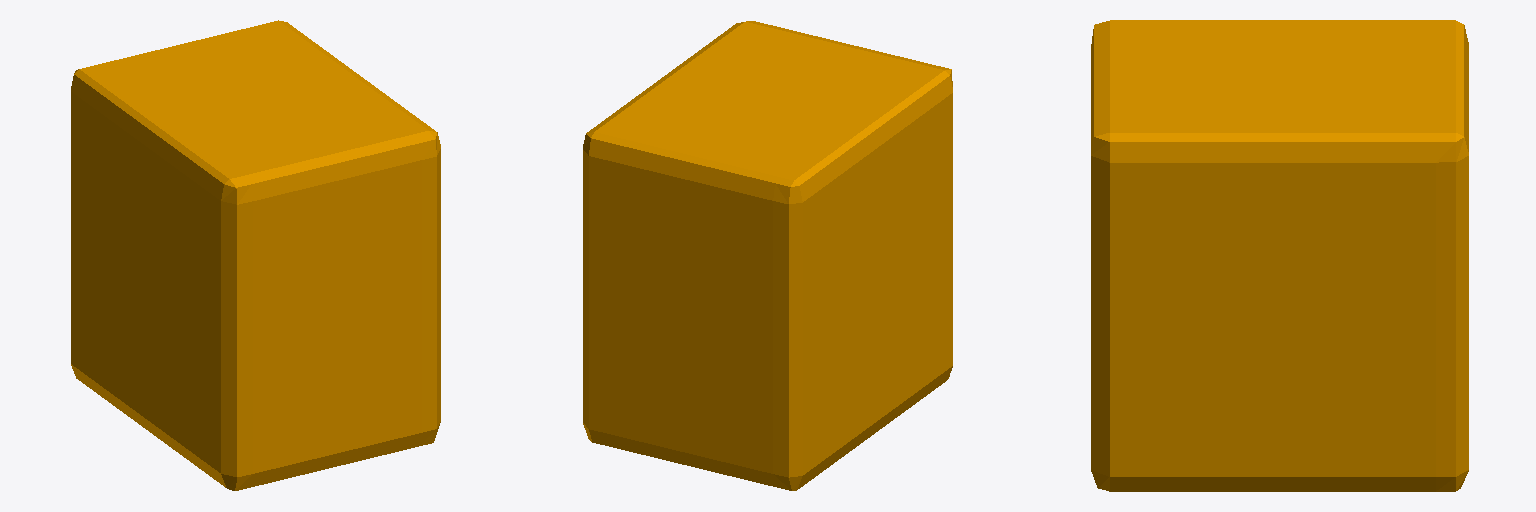
URDF robot description (cylinder_box_5):
<?xml version="1.0" encoding="utf-8"?>  <robot name="cylinder_box_5">   <link name="cylinder_box_5">     <visual>       <geometry>         <mesh filename="../meshes/box/box_5.stl" scale="1 1 1"/>       </geometry>     </visual>     <collision>       <geometry>         <mesh filename="../meshes/box/box_5.stl" scale="1 1 1"/>       </geometry>     </collision>     <inertial>        <origin         xyz="0 0 0"         rpy="0 0 0" />       <mass value="0.6386247942099151"/>       <origin rpy="0 0 0" xyz="0 0 0"/>       <inertia ixx="0.0009451071638439682" ixy="-1.0305574202331343e-09" ixz="-4.674944457905062e-09" iyy="0.0007639267408545388" iyz="-3.998417595207285e-08" izz="0.0007237252987229299"/>     </inertial>   </link>  </robot>

--- What the picture shows (computed from the rendered views, not written in the file) ---
The picture shows the robot from 3 angles, left to right: view 1: azimuth 30°, elevation 25°; view 2: azimuth 150°, elevation 25°; view 3: azimuth 270°, elevation 25°; orthographic projection.
Robot: cylinder_box_5 — 1 links, 0 joints (none); root link cylinder_box_5; default pose: all joints at 0.
Links seen in each view (by area): view 1: cylinder_box_5; view 2: cylinder_box_5; view 3: cylinder_box_5.
Boxes of the visible links, box(x1,y1,x2,y2) form: cylinder_box_5: box(71, 20, 440, 490); cylinder_box_5: box(583, 21, 952, 490); cylinder_box_5: box(1091, 20, 1468, 491).
Bounding box of the posed robot: 0.0719 × 0.0928 × 0.0967 m (x, y, z).
Meshes: 1 distinct files referenced, 1 mesh visuals loaded (1 binary STL).